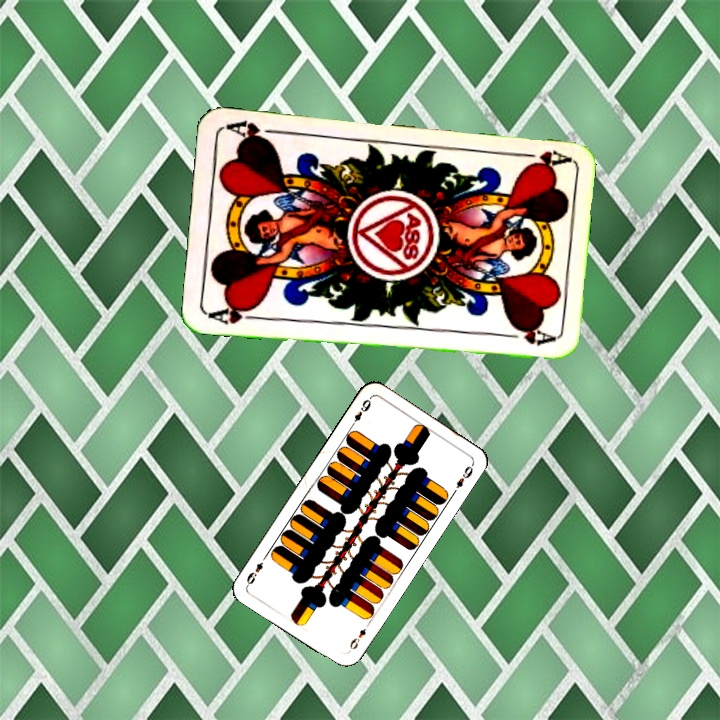E9: (346, 395, 374, 430), (345, 624, 369, 654)
HA: (206, 301, 265, 328), (511, 146, 570, 170)
